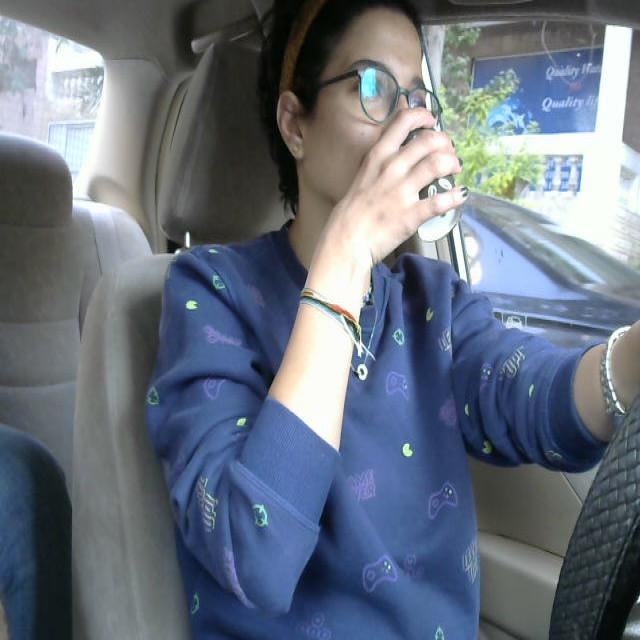drinking: (373, 102, 472, 254)
